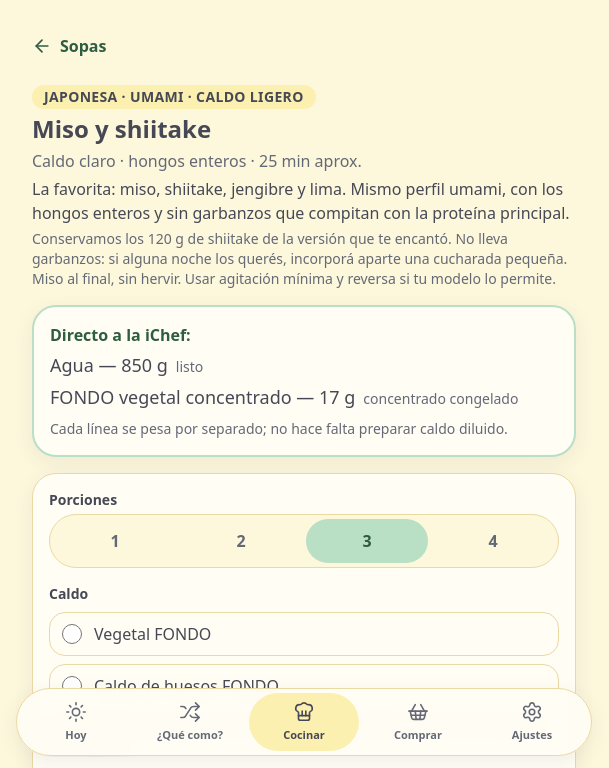
miso at two servings shows the liquid summary and scaled ingredients
Expected: the heading "Miso y shiitake" is shown, [32,112,211,145]
Click the button "2".
click(241, 541)  # box [180,519,302,563]
(page scrolled)
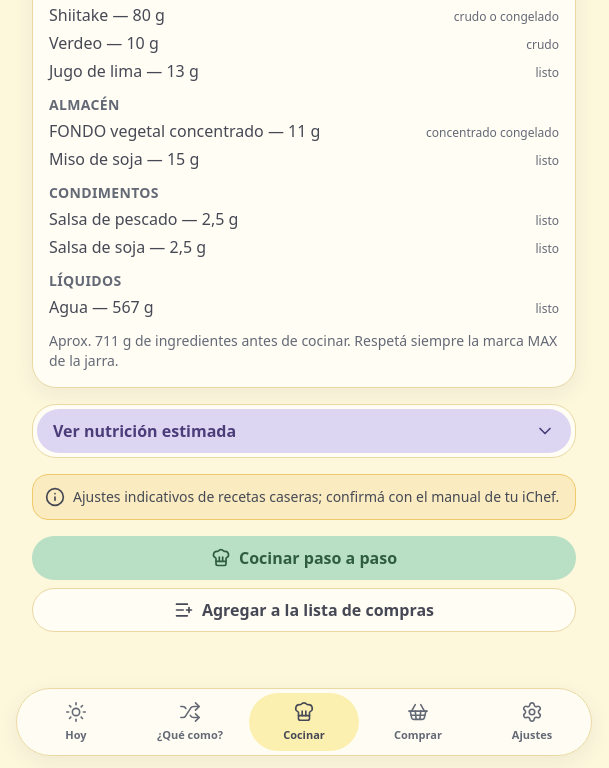
Expected: the text "Shiitake — 80 g" is shown, [49,3,165,27]
Expected: the text "Miso de soja — 15 g" is shown, [49,147,199,171]
Expected: the text "Agua — 567 g" is shown, [49,295,154,319]
